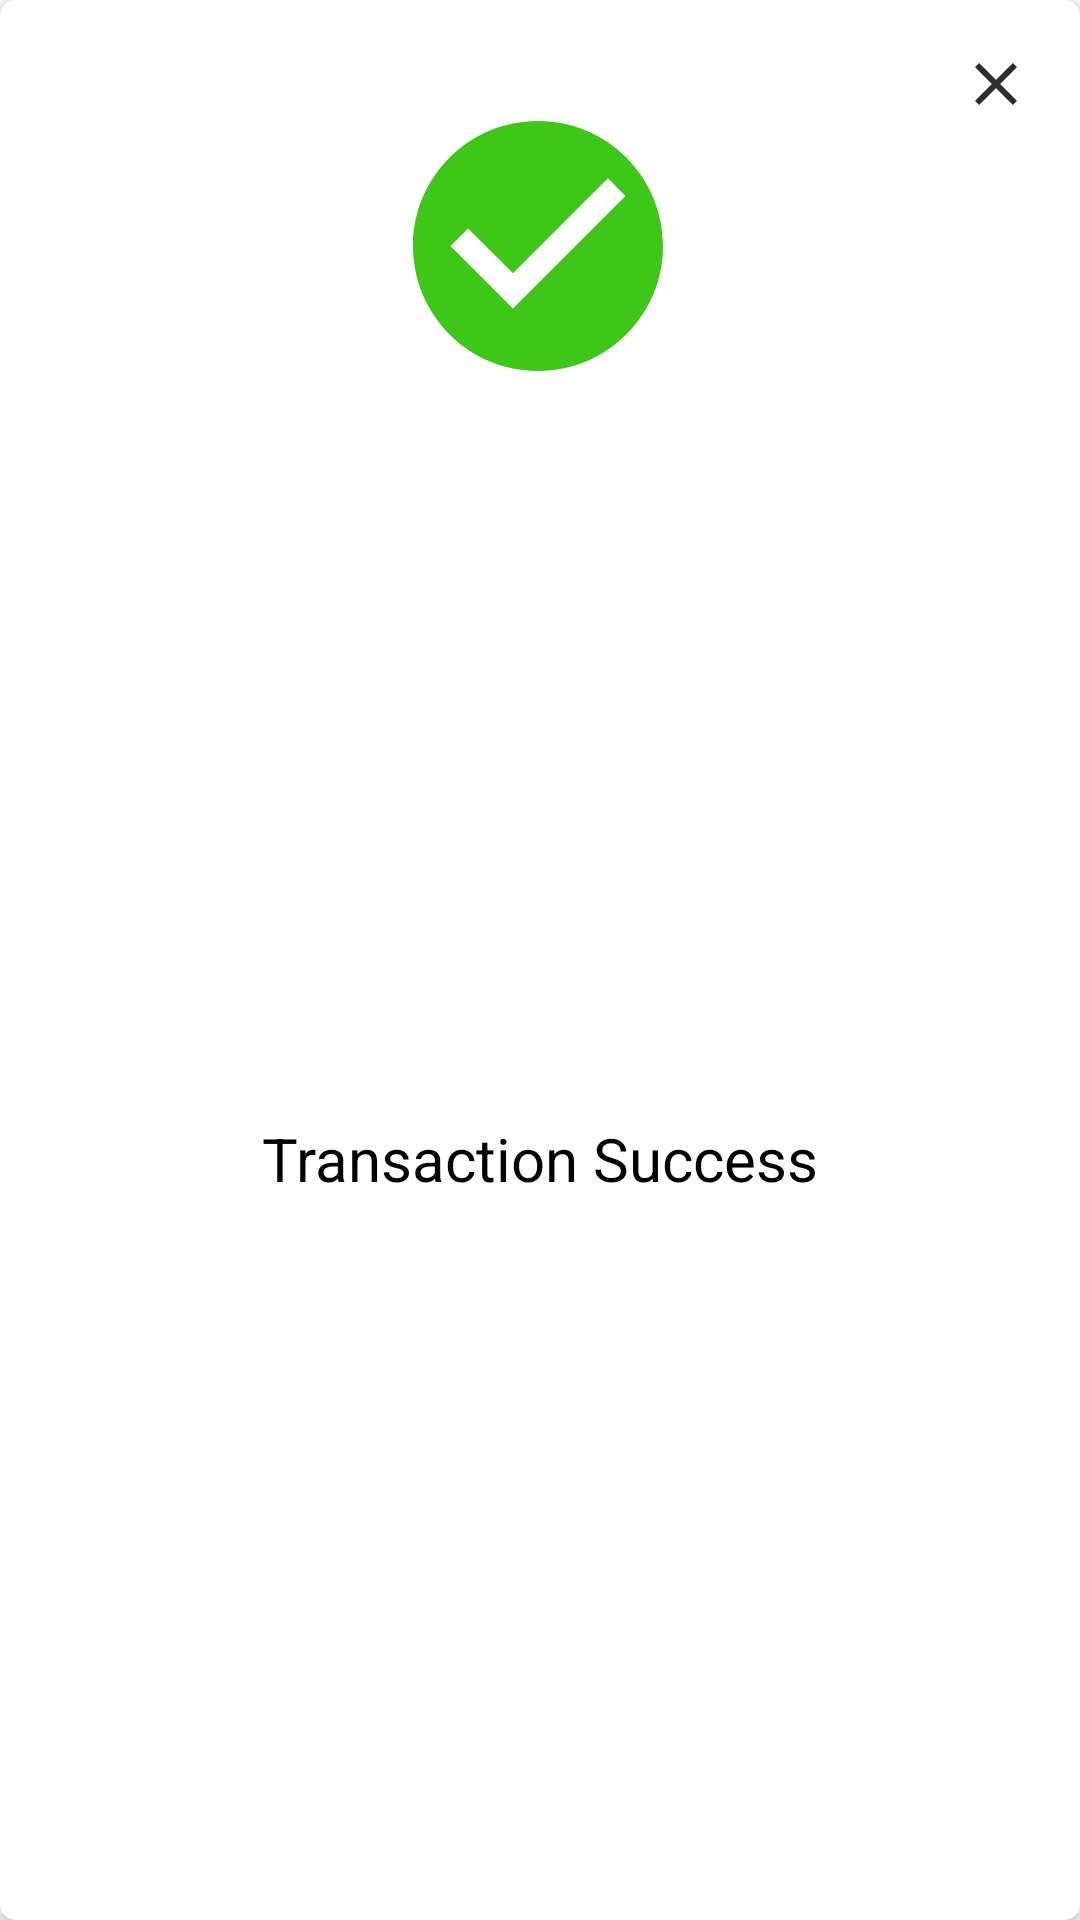

Icon bounding boxes for this 1080*1920 phone screenshot, format bbox=[x1, y1, x2, y2]:
check circle: bbox=[413, 121, 663, 371]
close: bbox=[975, 63, 1017, 105]
